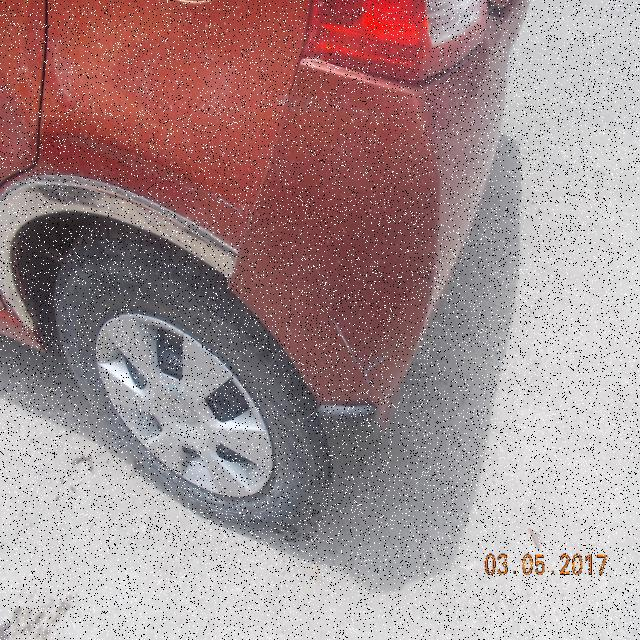rear-bumper-dent: (218, 91, 473, 514)
